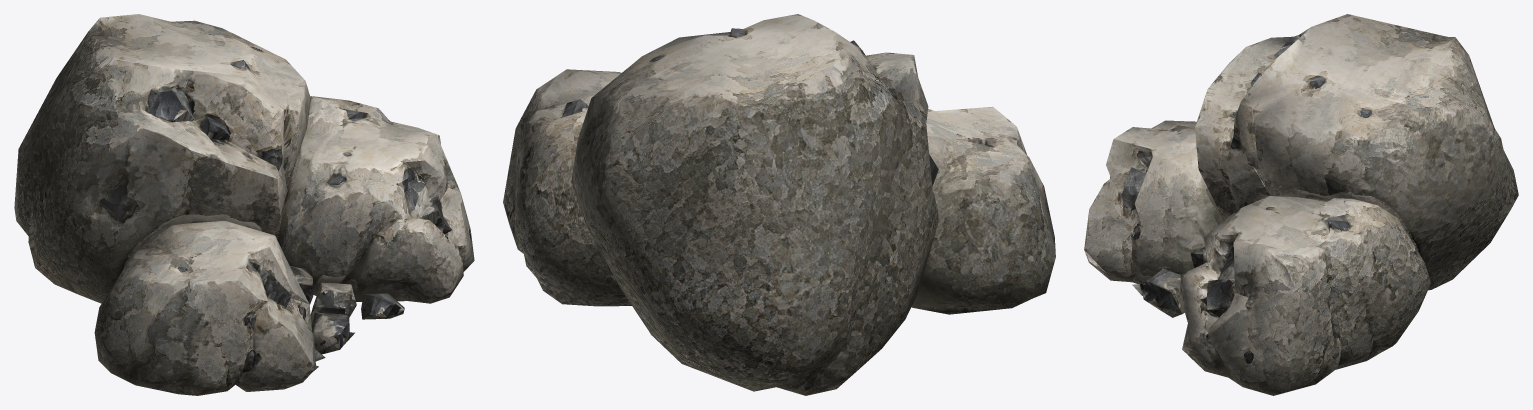
Rendered from dungeon_flint_boulders.glb.
3 renders of one model, left to right at view 1: azimuth 30°, elevation 25°; view 2: azimuth 150°, elevation 25°; view 3: azimuth 270°, elevation 25°, orthographic. The views are drawn at different scales.
Visible parts, largest first — view 1: flint_boulders; view 2: flint_boulders; view 3: flint_boulders.
Boxes of the visible parts, box(x1,y1,x2,y2) form: flint_boulders: box(14, 14, 474, 395); flint_boulders: box(503, 14, 1055, 395); flint_boulders: box(1084, 14, 1518, 395).
Bounding box in the file's own units: 0.9956 × 0.5918 × 0.9565.
Materials: 1 (1 with a texture image).
